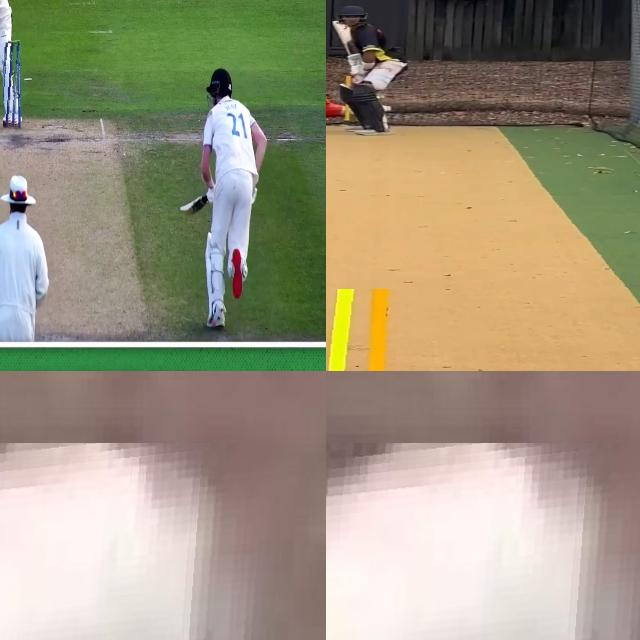Cricket ball: (326, 443, 640, 640), (0, 443, 306, 640)
Stumps: (326, 289, 402, 371), (4, 40, 22, 134)
